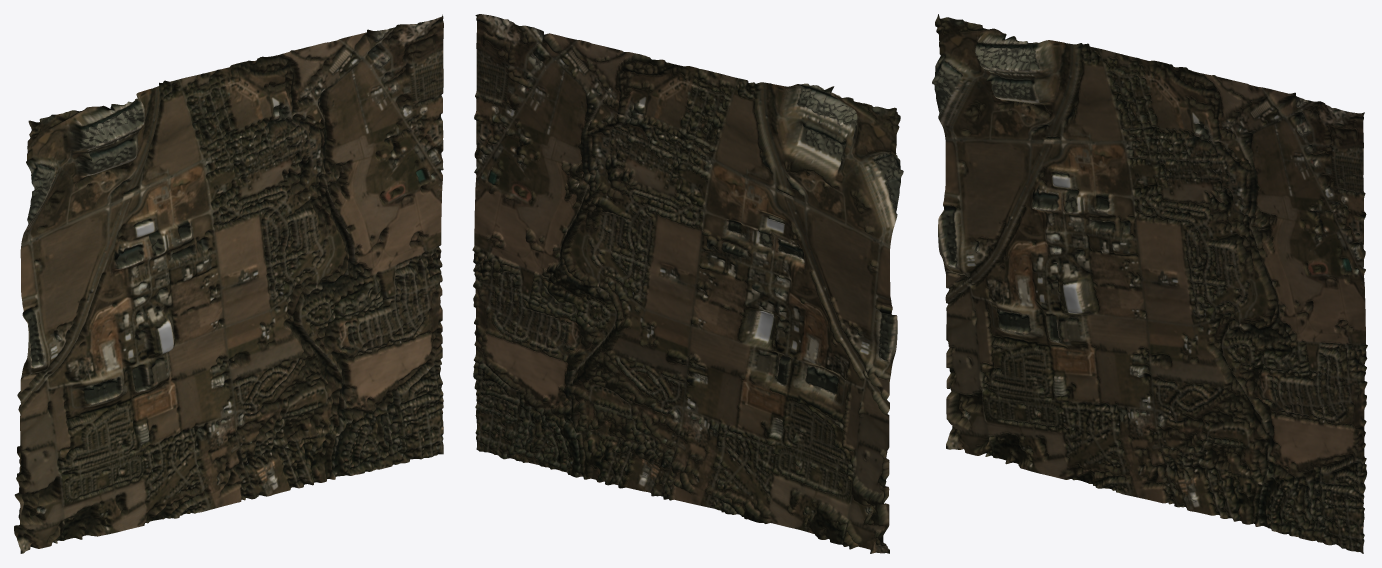
The model's file is 7af9d1dc-4df1-405a-baef-d3f4ec163d9a_terrain.glb.
The picture shows the model from 3 angles, left to right: view 1: azimuth 30°, elevation 25°; view 2: azimuth 150°, elevation 25°; view 3: azimuth 330°, elevation 25°; orthographic projection.
Parts seen in each view (by area): view 1: geometry_0; view 2: geometry_0; view 3: geometry_0.
Part boxes in pixels (x1,y1,x2,y2): geometry_0: (14, 14, 443, 553); geometry_0: (472, 14, 903, 553); geometry_0: (932, 14, 1367, 553).
Bounding box in the file's own units: 511 × 511 × 54.19.
Materials: 1 (1 with a texture image).
